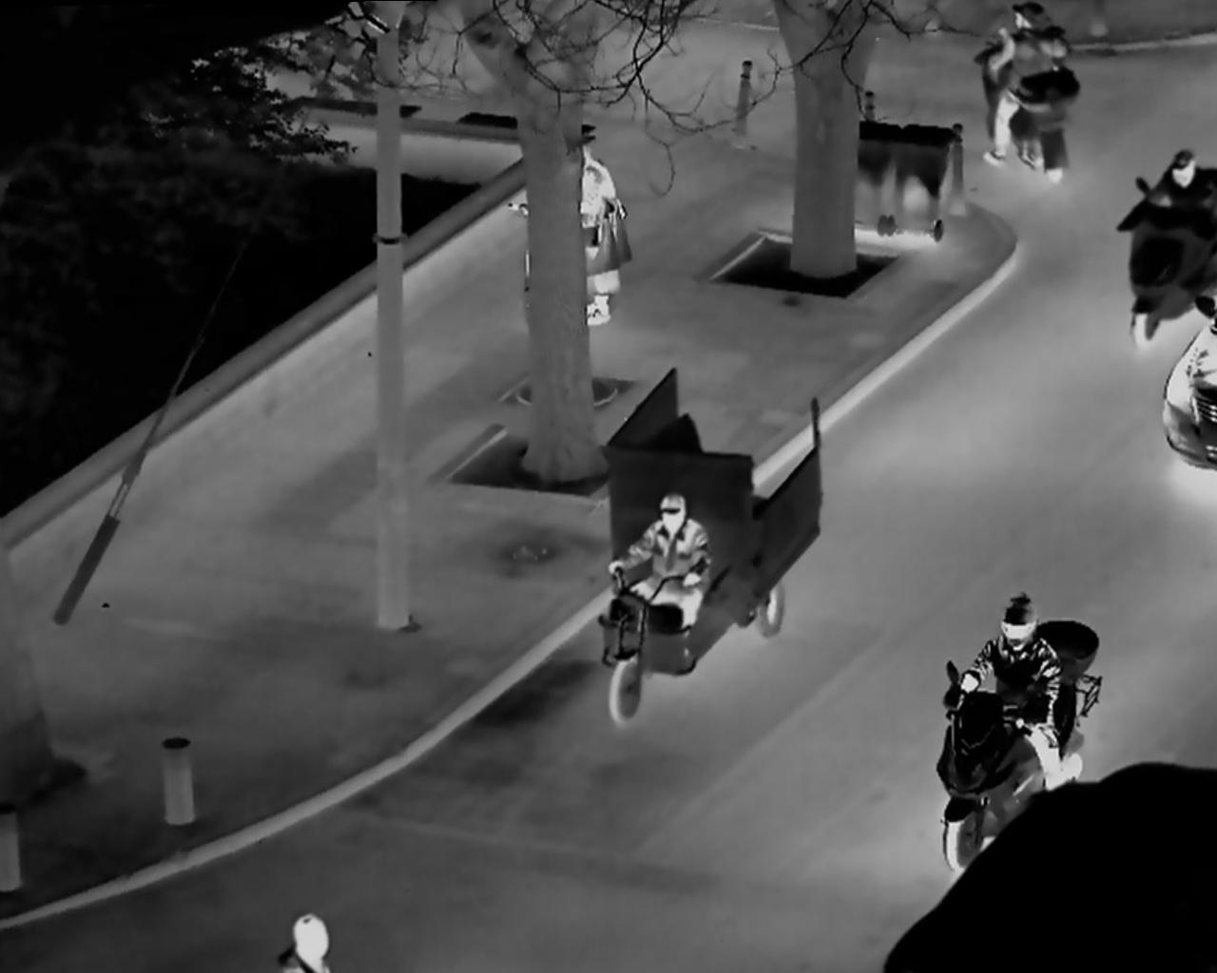person: (929, 563, 1102, 839), (595, 483, 724, 685), (568, 129, 636, 334), (1148, 125, 1207, 322)
